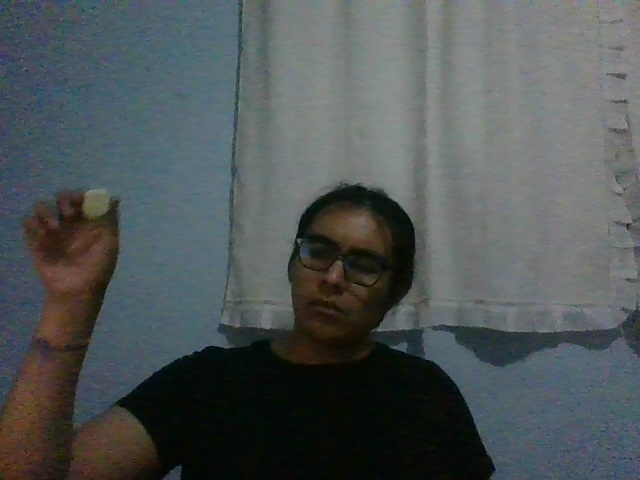goma: (81, 189, 110, 221)
